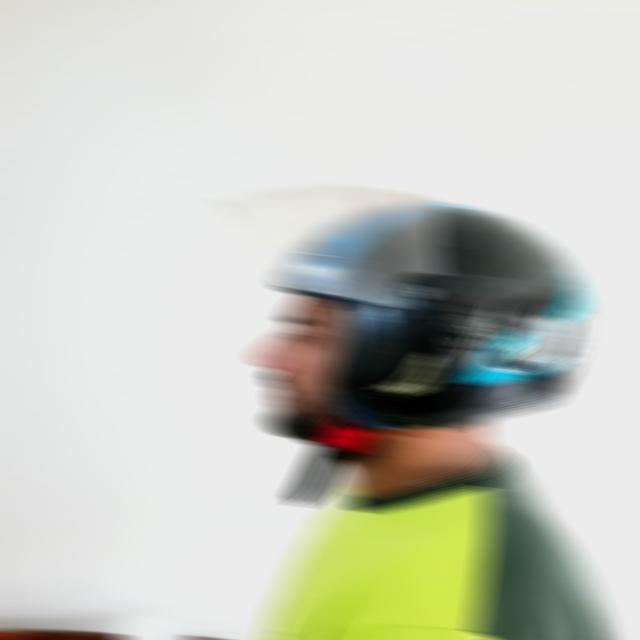With Helmet: (208, 184, 590, 429)
